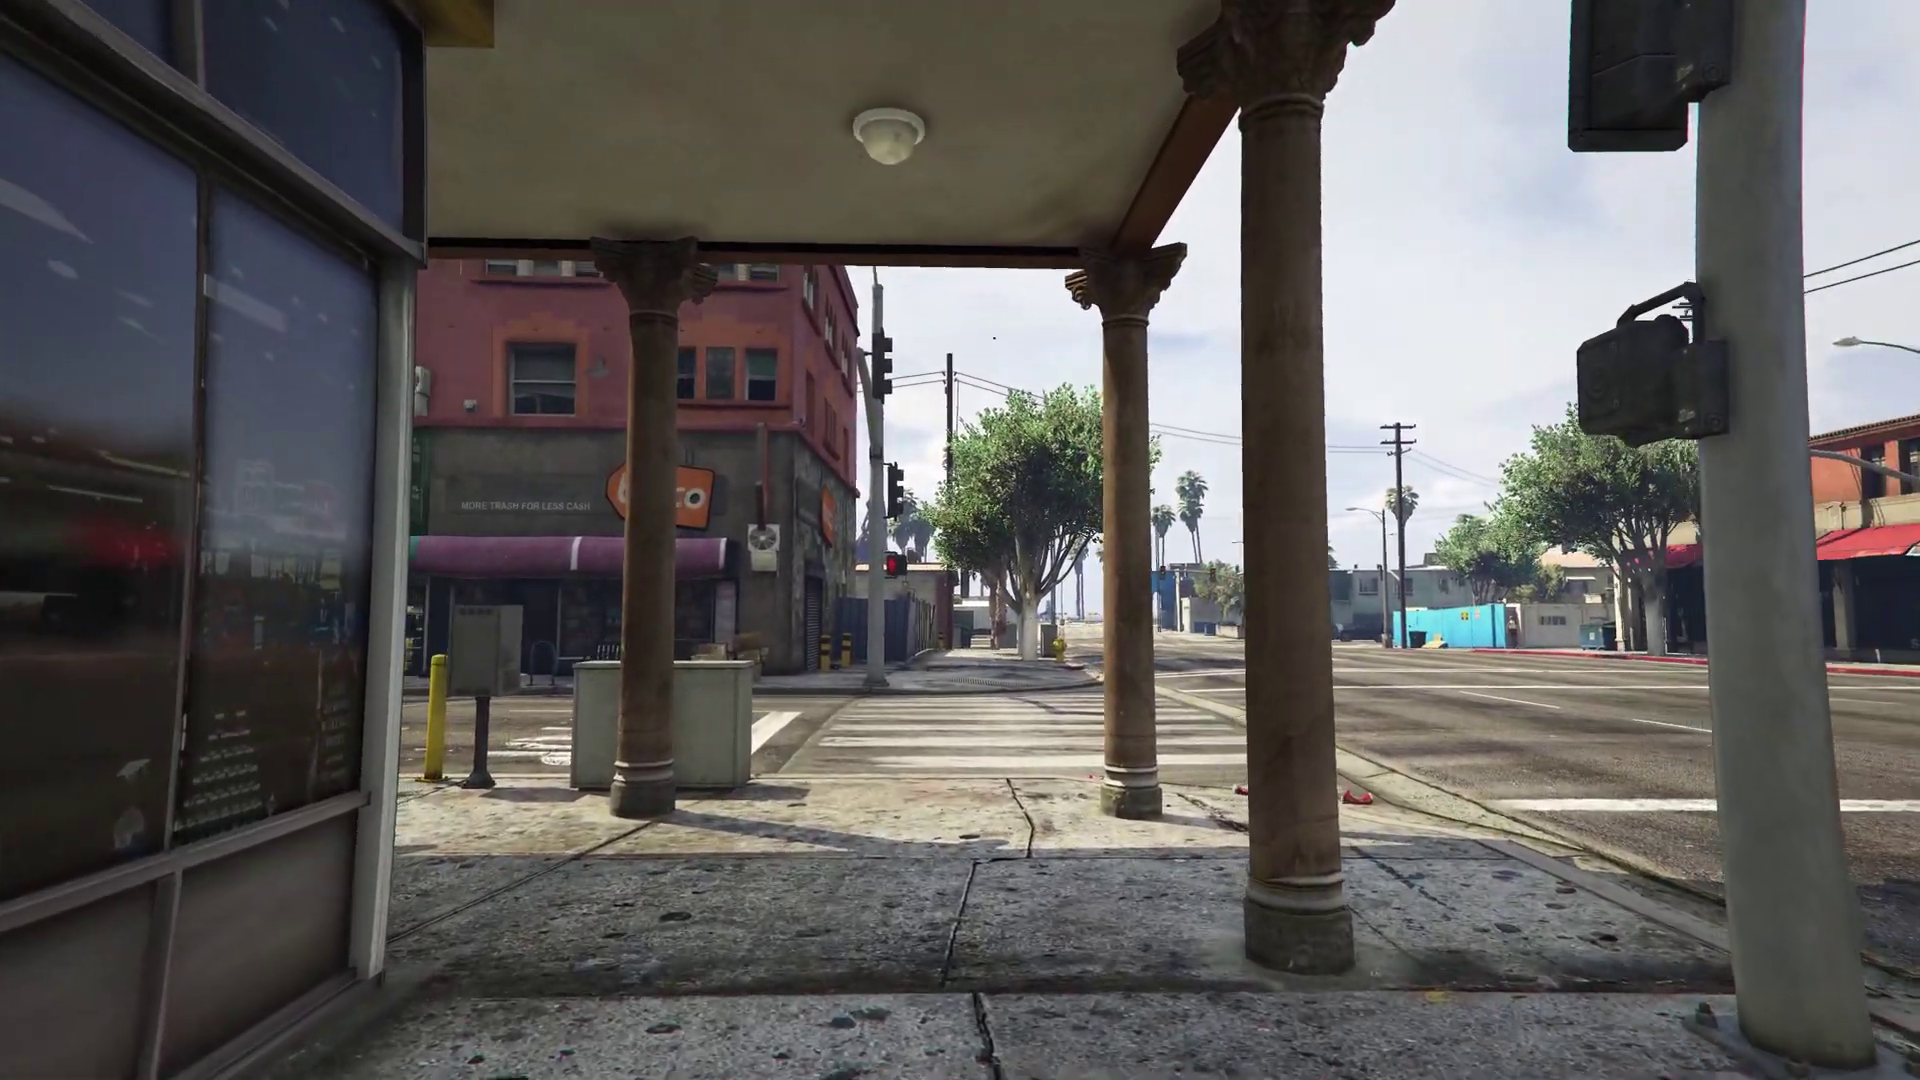traffic light: (1567, 1, 1681, 152), (1577, 313, 1691, 447), (869, 332, 891, 400), (887, 468, 903, 516), (887, 554, 907, 578), (1208, 567, 1216, 583), (1159, 564, 1164, 582)
